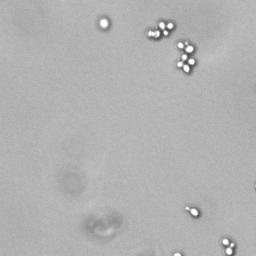budding: (218, 233, 237, 256), (182, 202, 202, 219)
cluster: (173, 36, 199, 76), (146, 18, 177, 40), (95, 14, 112, 31)
